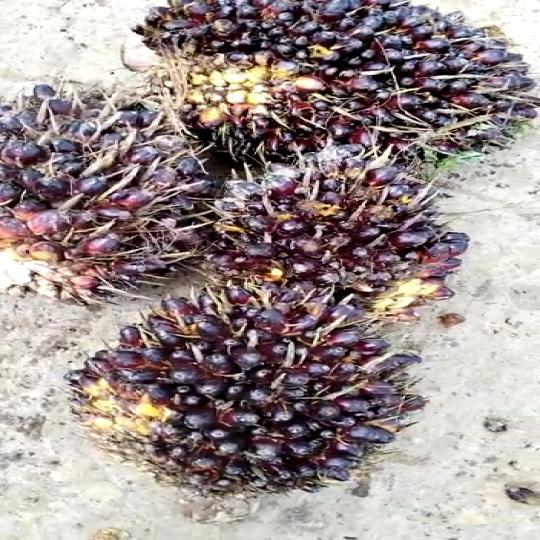kurang masak: (48, 262, 440, 502), (148, 0, 539, 173), (213, 138, 474, 330), (0, 76, 215, 300)
